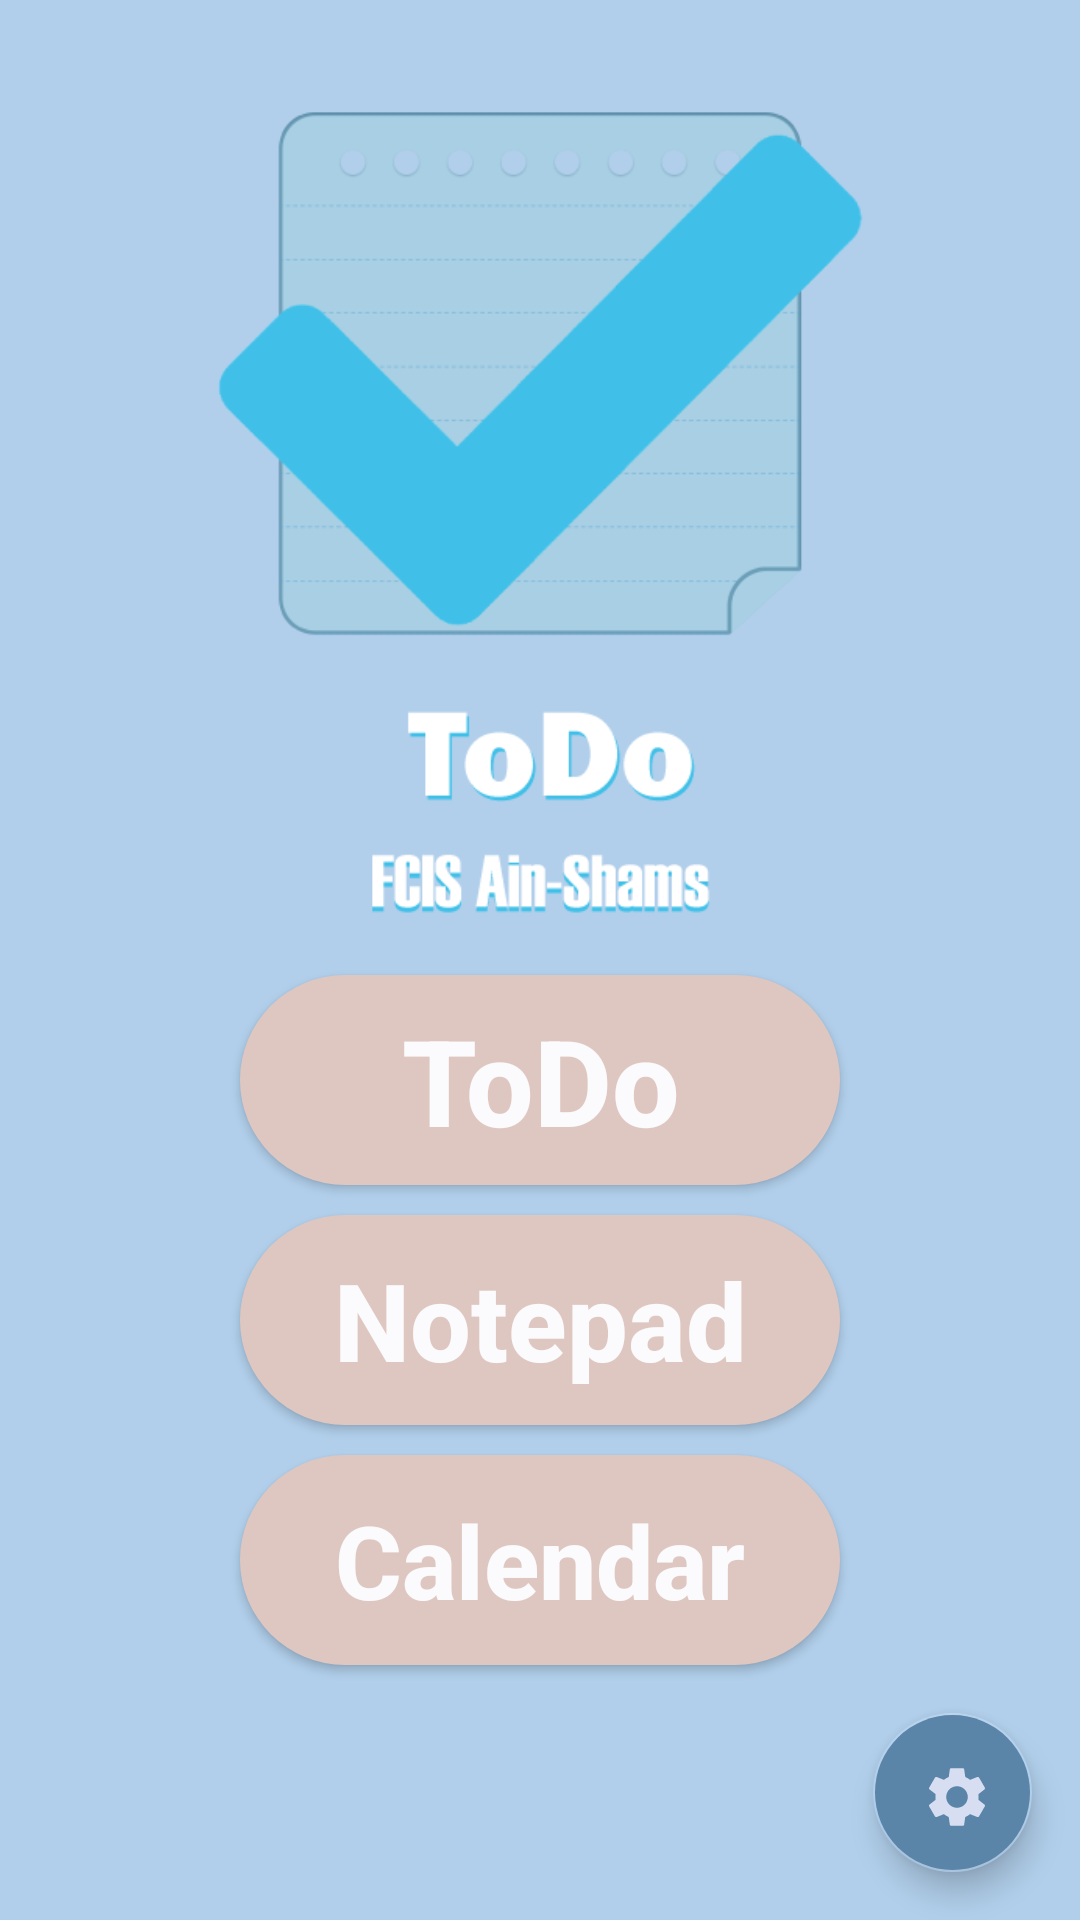

Icon bounding boxes for this 1080x1920 phone screenshot, format (x1, y1, x2, y2):
settings: (875, 1715, 1030, 1870)
